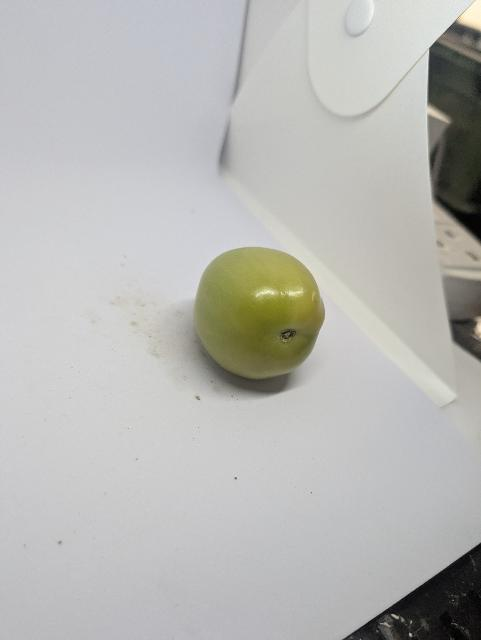green: (193, 245, 329, 382)
